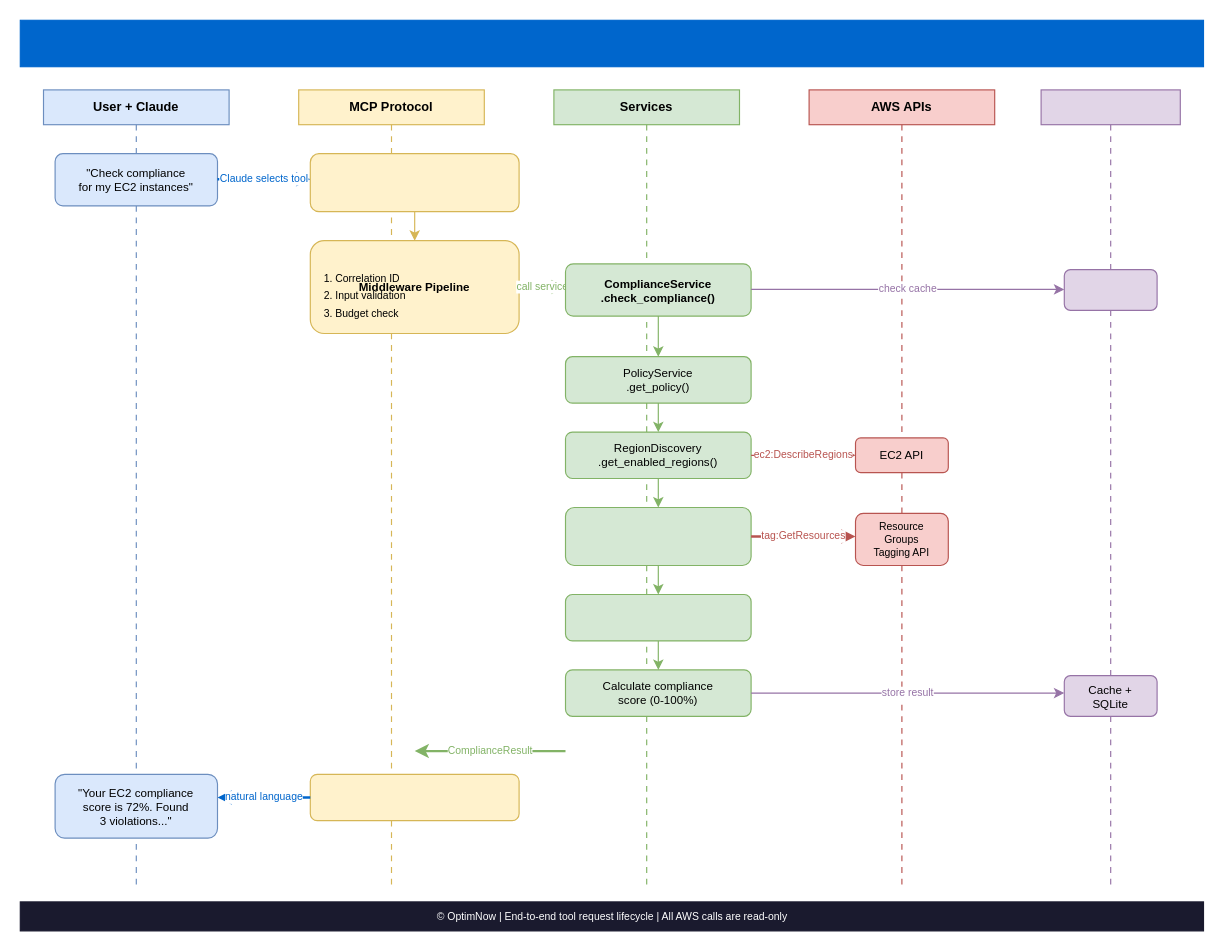
Some shapes in this 1224 by 951 pixel diagram are drawn without their labels. The centre of each missing label's shape, as x and y in pixels:
AWSClient .get_resources() (parallel per region): (x=657, y=536)
Cache / DB: (x=1110, y=107)
Cache MISS: (x=1110, y=289)
JSON-RPC call check_tag_compliance {resource_types: ["ec2"]}: (x=414, y=182)
JSON-RPC response {score: 72, violations: [...]}: (x=414, y=797)
MCP Tool Request Flow — check_tag_compliance Example: (x=611, y=43)
Validate each resource against policy rules: (x=657, y=617)
